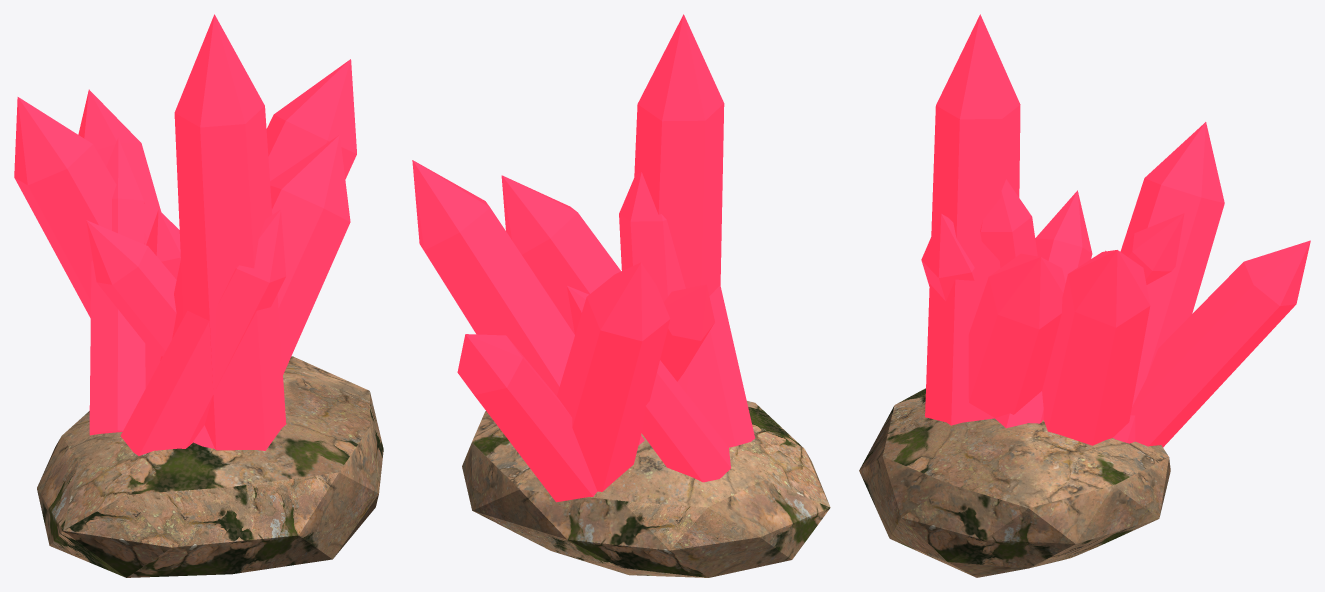
Rendered from Crystal_Red_S.fbx.
3 views of the same model, side by side, from view 1: azimuth 30°, elevation 25°; view 2: azimuth 150°, elevation 25°; view 3: azimuth 270°, elevation 25° (orthographic). The views are drawn at different scales.
Parts seen in each view (by area): view 1: Crystal_Red_S; view 2: Crystal_Red_S; view 3: Crystal_Red_S.
Boxes of the visible parts, left/top/right/bottom form: Crystal_Red_S: left=14, top=14, right=383, bottom=577; Crystal_Red_S: left=412, top=14, right=830, bottom=577; Crystal_Red_S: left=859, top=14, right=1310, bottom=577.
Size of the model in its own units: 1.71 by 2.5 by 1.97.
